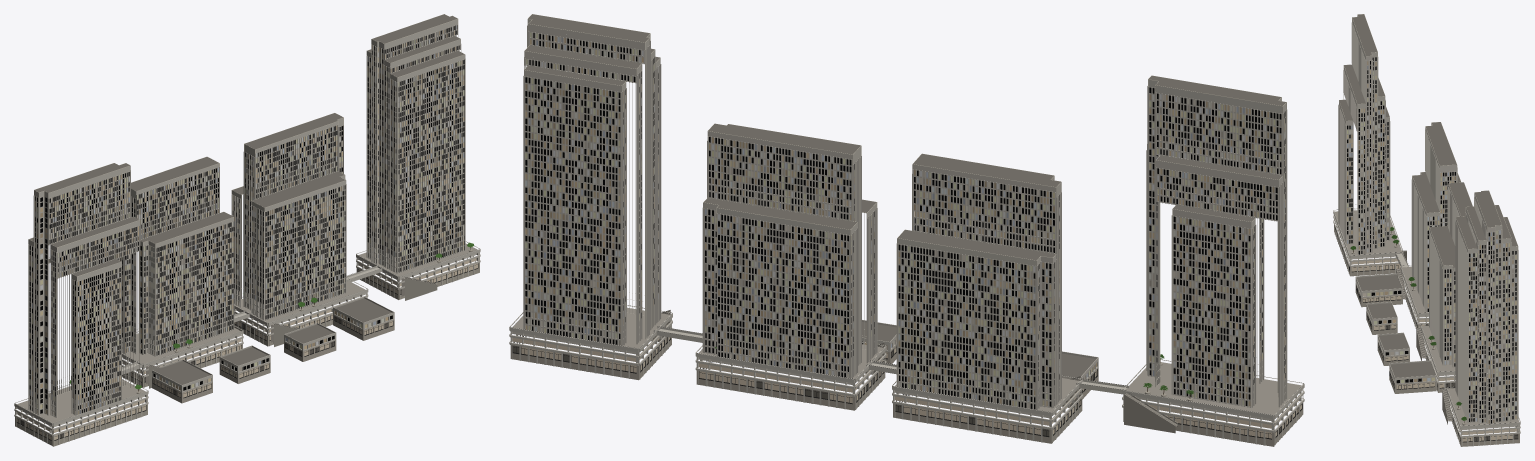
Rendered from embCenter_lod0.glb.
The picture shows the model from 3 angles, left to right: view 1: azimuth 30°, elevation 25°; view 2: azimuth 150°, elevation 25°; view 3: azimuth 270°, elevation 25°; orthographic projection. The views are drawn at different scales.
Parts seen in each view (by area): view 1: L0_concrete, L0_win, L0_roof, L0_shop, L0_lamp, L0_paving, L0_metal; view 2: L0_concrete, L0_win, L0_roof, L0_shop, L0_lamp, L0_paving, L0_metal; view 3: L0_concrete, L0_win, L0_roof, L0_lamp, L0_shop, L0_paving, L0_metal, L0_leaf.
Part boxes in pixels (left/top/right/bottom): L0_concrete: left=14, top=19, right=480, bottom=446; L0_win: left=29, top=25, right=464, bottom=416; L0_roof: left=29, top=14, right=464, bottom=384; L0_shop: left=16, top=253, right=477, bottom=439; L0_lamp: left=28, top=14, right=465, bottom=417; L0_paving: left=17, top=243, right=477, bottom=422; L0_metal: left=15, top=242, right=479, bottom=440; L0_concrete: left=509, top=19, right=1304, bottom=446; L0_win: left=525, top=32, right=1285, bottom=409; L0_roof: left=524, top=14, right=1285, bottom=379; L0_shop: left=512, top=323, right=1301, bottom=438; L0_lamp: left=524, top=14, right=1286, bottom=409; L0_paving: left=512, top=307, right=1301, bottom=414; L0_metal: left=510, top=305, right=1303, bottom=439; L0_concrete: left=1333, top=15, right=1520, bottom=446; L0_win: left=1347, top=57, right=1516, bottom=423; L0_roof: left=1339, top=14, right=1517, bottom=377; L0_lamp: left=1339, top=14, right=1518, bottom=423; L0_shop: left=1349, top=255, right=1518, bottom=441; L0_paving: left=1334, top=210, right=1519, bottom=425; L0_metal: left=1334, top=209, right=1517, bottom=442; L0_leaf: left=1350, top=227, right=1466, bottom=420.
Bounding box in the file's own units: 382 × 176 × 138.
